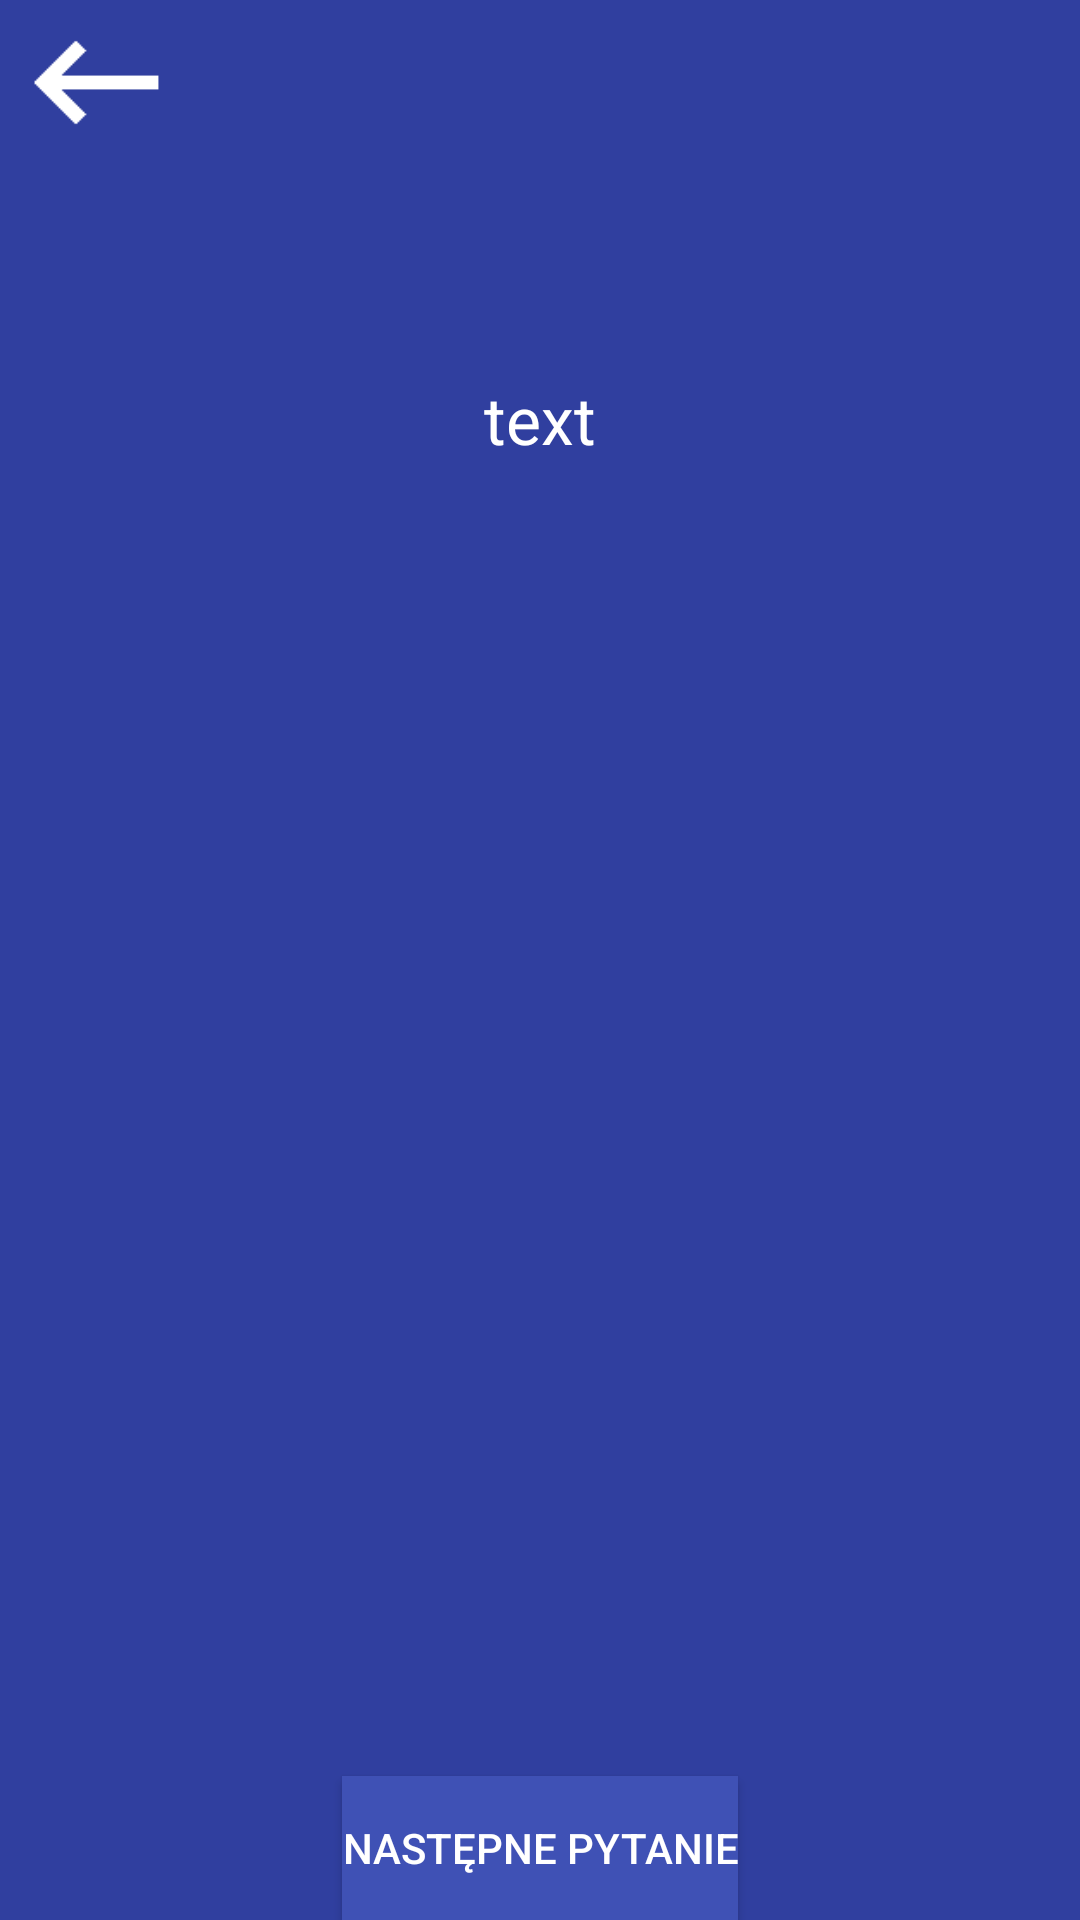

Point at icon controls on the screen. Image size 1080 x 1920, points as (x=x, y=y).
return: (x=96, y=82)
